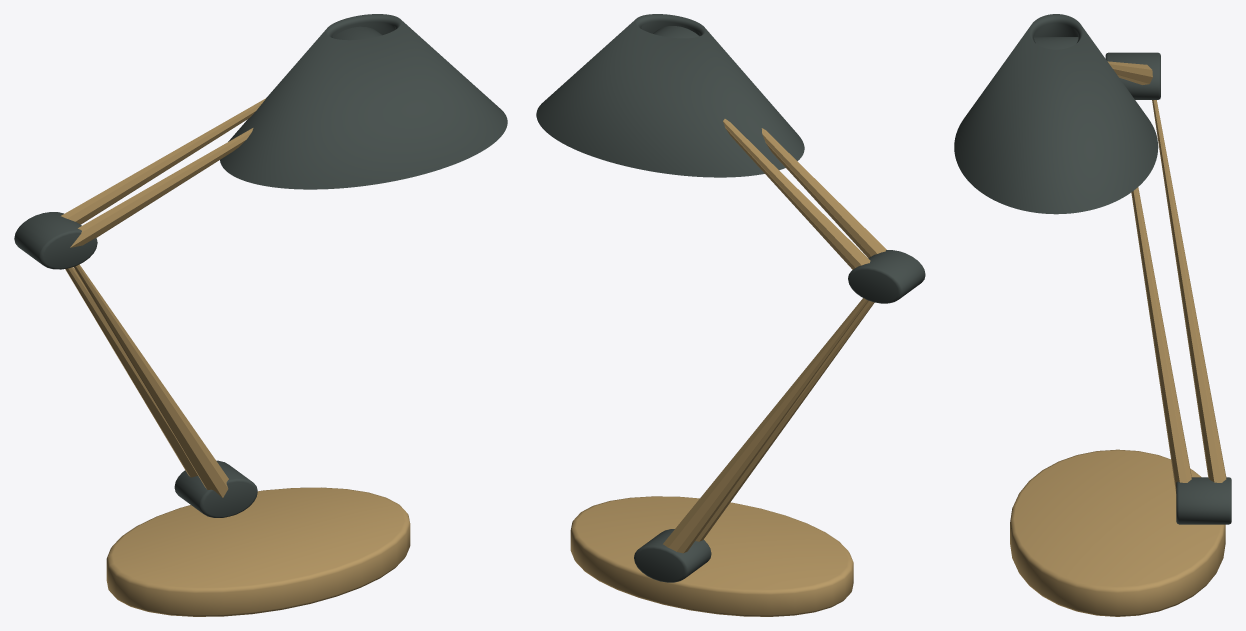
File: articulated-task-lamp.glb
3 views of the same model, side by side, from view 1: azimuth 30°, elevation 25°; view 2: azimuth 150°, elevation 25°; view 3: azimuth 270°, elevation 25° (orthographic). The views are drawn at different scales.
Parts seen in each view (by area): view 1: catalog_surface_RealismUV; view 2: catalog_surface_RealismUV; view 3: catalog_surface_RealismUV.
Part boxes in pixels (left/top/right/bottom): catalog_surface_RealismUV: left=14, top=14, right=507, bottom=616; catalog_surface_RealismUV: left=536, top=14, right=925, bottom=616; catalog_surface_RealismUV: left=954, top=14, right=1231, bottom=616.
Bounding box in the file's own units: 0.46 × 0.55 × 0.25.
